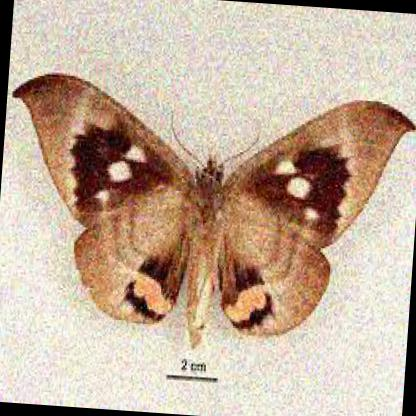fruit sucking moth: (11, 76, 414, 350)
